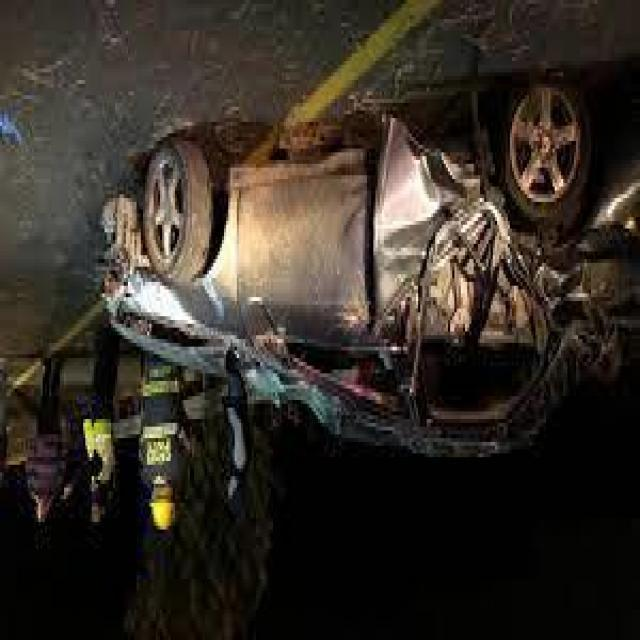severe: (94, 76, 638, 476)
